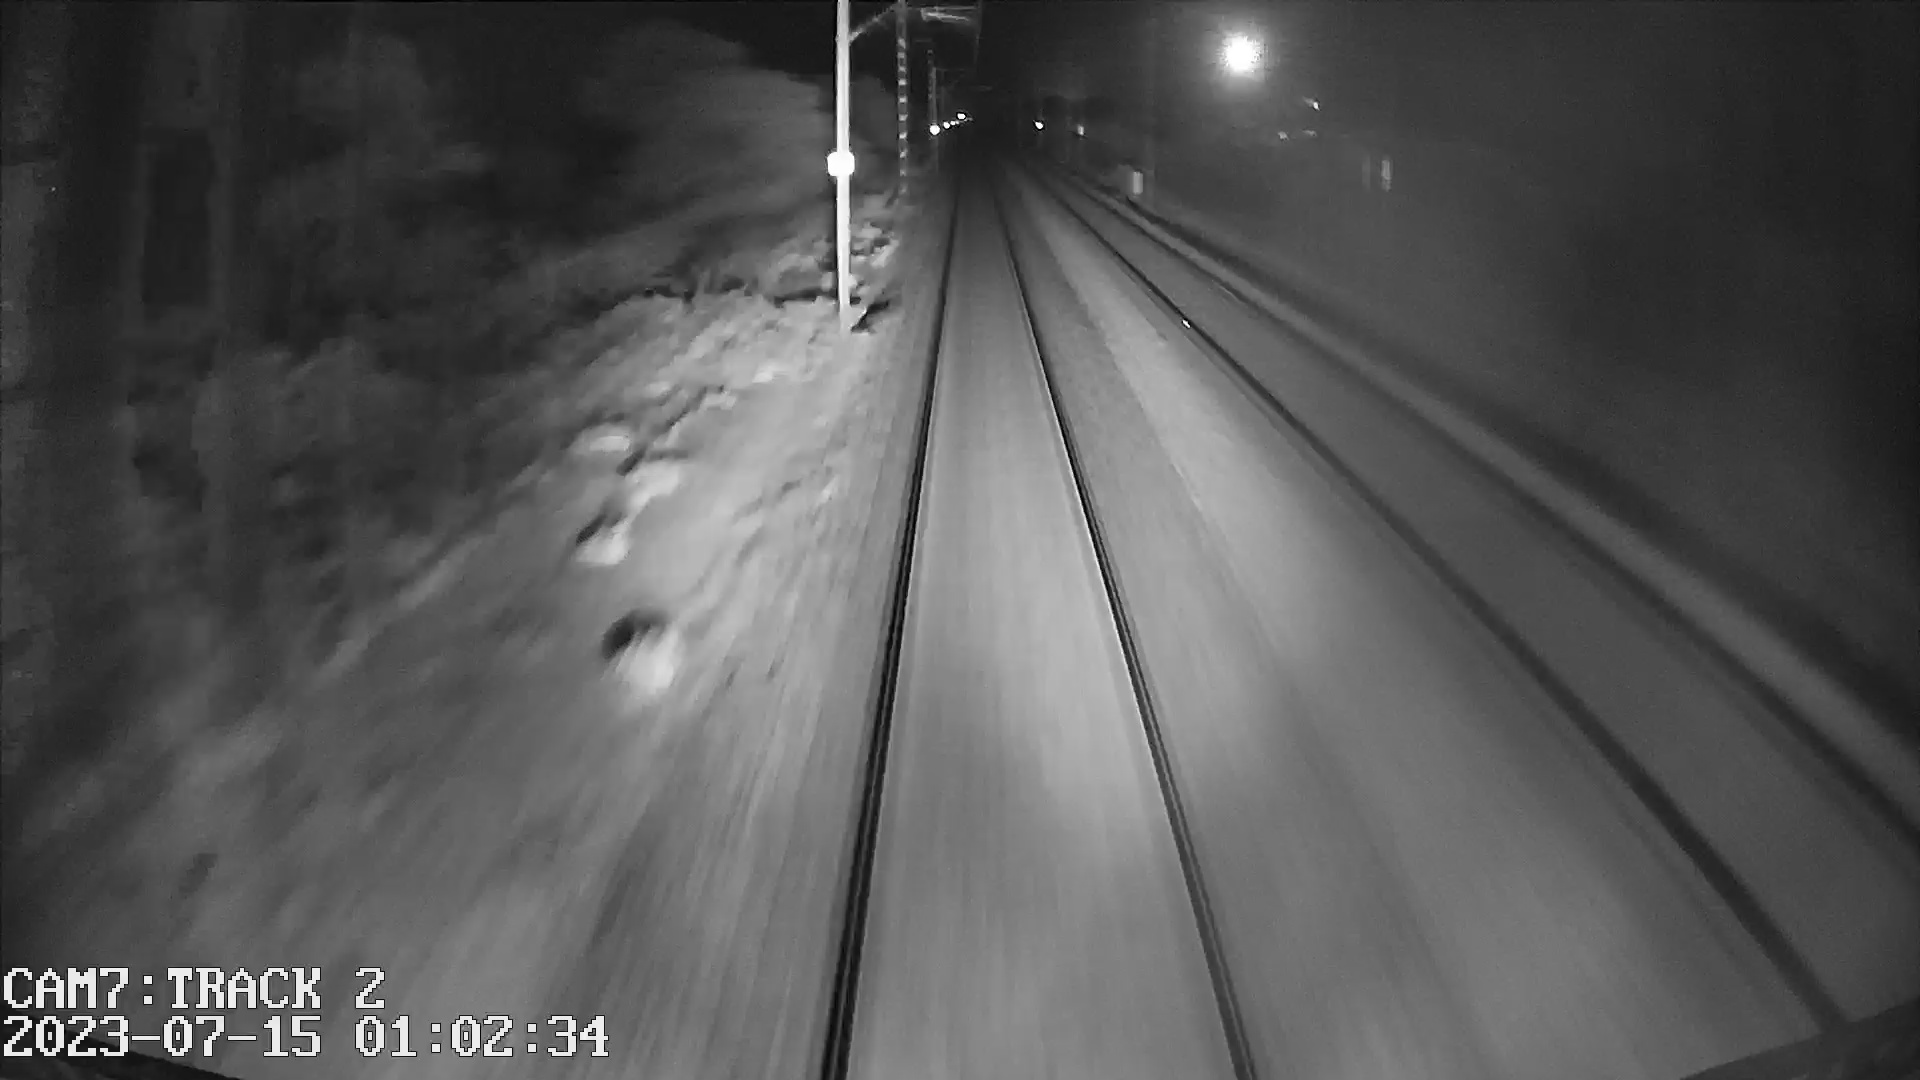track1: (840, 187, 1241, 1062)
track2: (1056, 194, 1904, 982)
